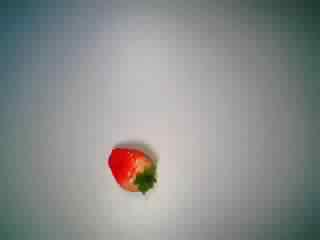strawberry: (97, 137, 163, 203)
